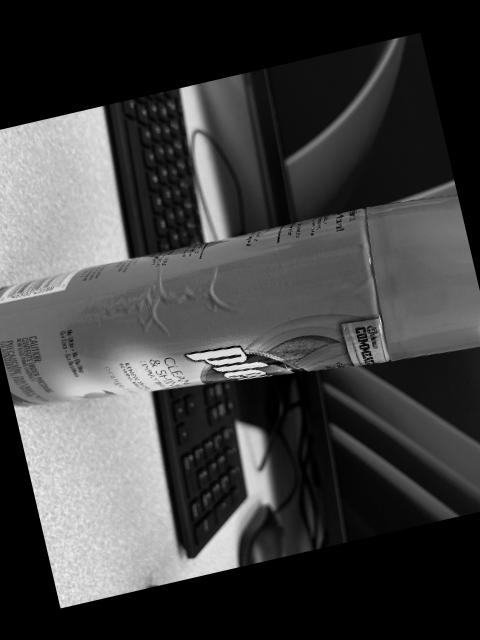Pledge: (0, 195, 480, 406)
